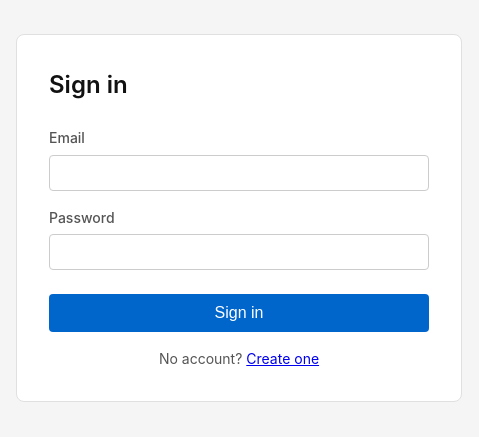
LoginPage › shows error message from authService on failure
The width and height of the screenshot is (479, 437).
Type "a@b.com" into the field labelled "Email" at {"x": 239, "y": 172}, box [49,154,429,190]
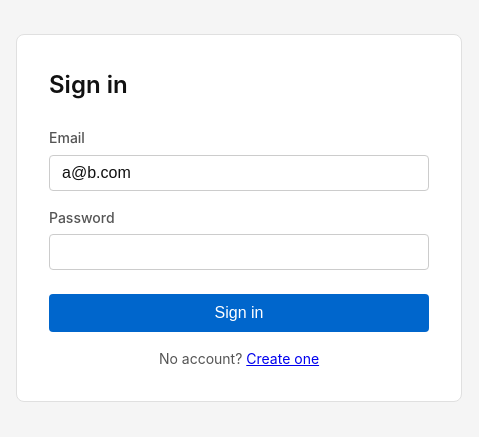
Type "password123" into the password field labelled "Password" at {"x": 239, "y": 252}, box [49,234,429,270]
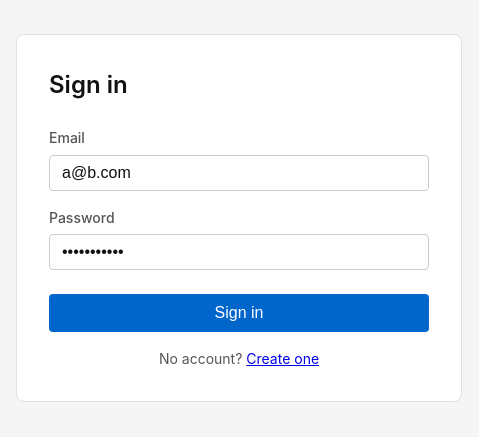
Click the button "Sign in" at {"x": 239, "y": 313}, box [49,294,429,332]
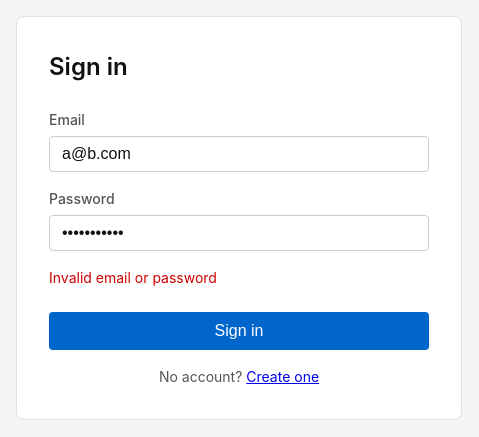
Check: the text "Invalid email or password" is shown, box [49,269,217,286]
